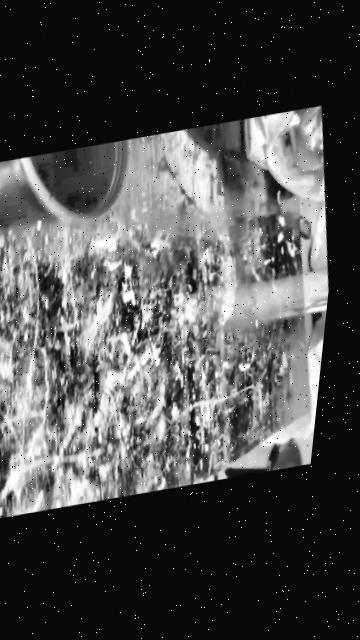pot: (0, 137, 138, 241)
